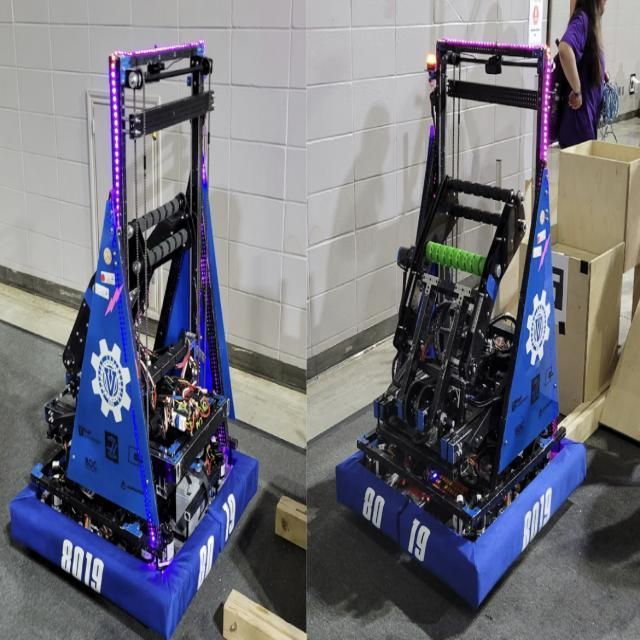robot: (1, 35, 263, 637), (330, 27, 593, 610)
